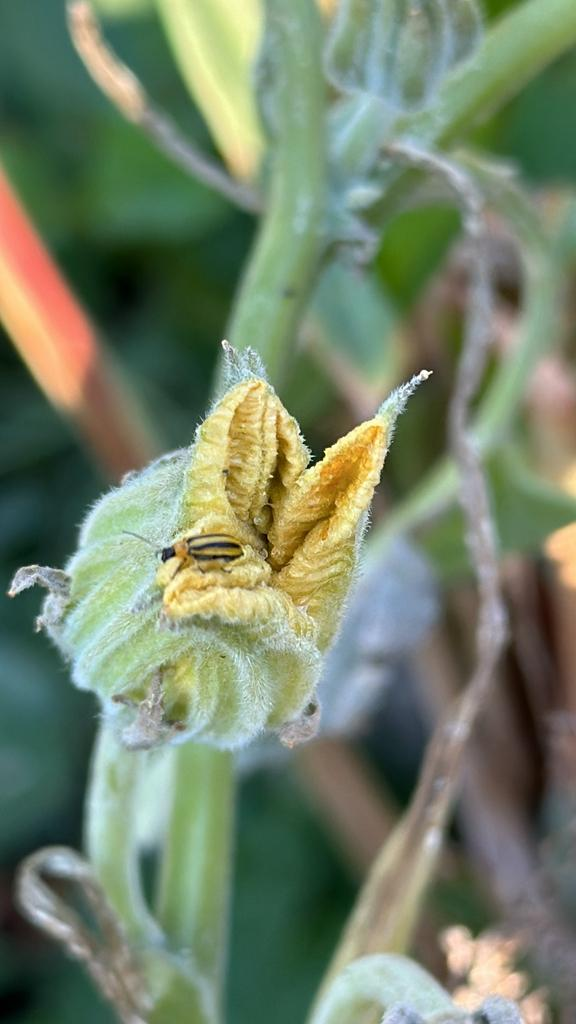potato_beetle: (99, 510, 261, 596)
